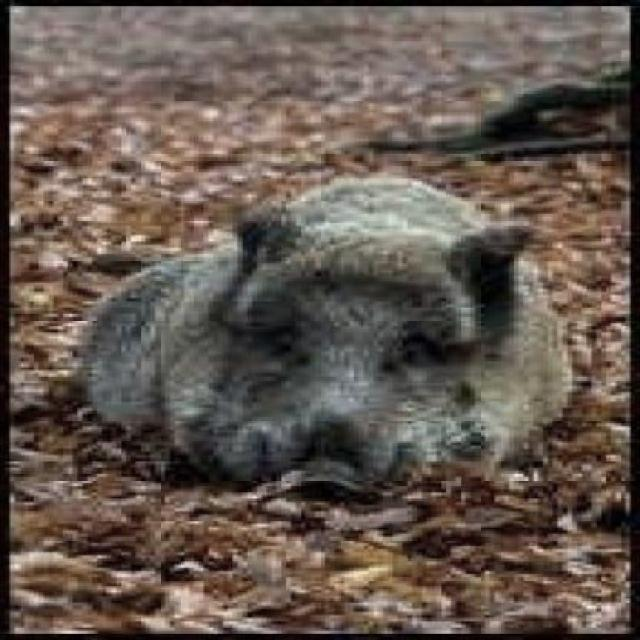Boar: (49, 152, 546, 488)
